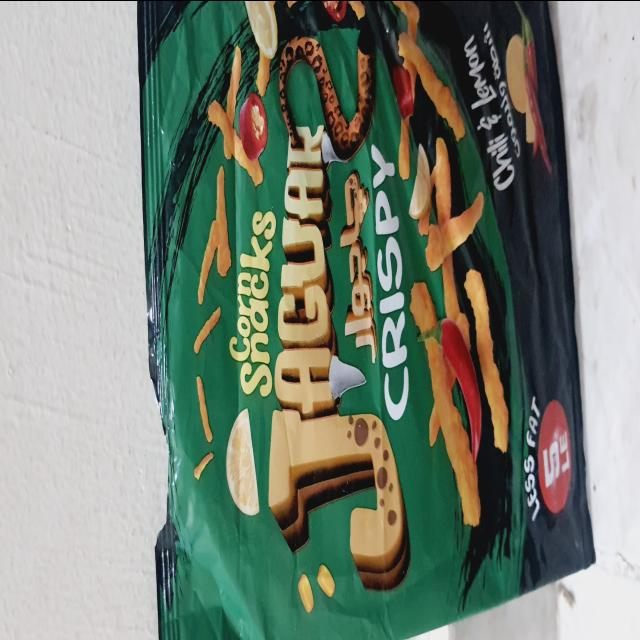Metal: (136, 0, 594, 640)
